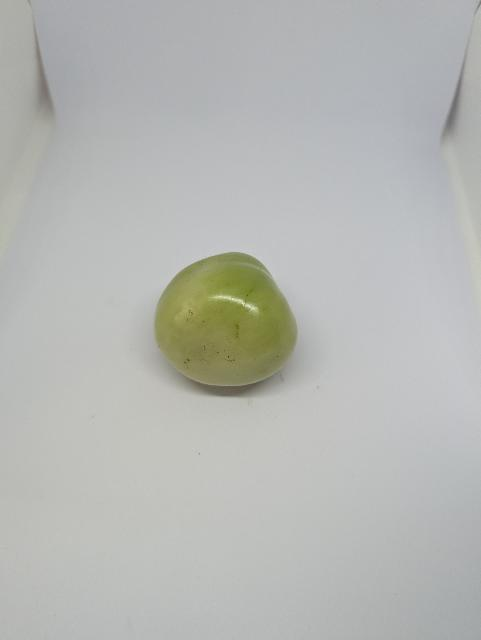green: (145, 245, 303, 401)
